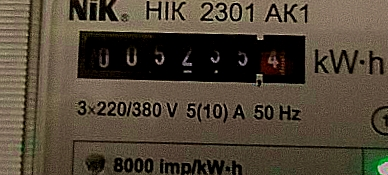0: (95, 42, 111, 68), (123, 42, 139, 66)
2: (178, 40, 195, 67)
3: (205, 38, 223, 64)
4: (263, 41, 282, 71)
5: (233, 39, 250, 67), (151, 40, 166, 66)
screen: (63, 13, 316, 96)
